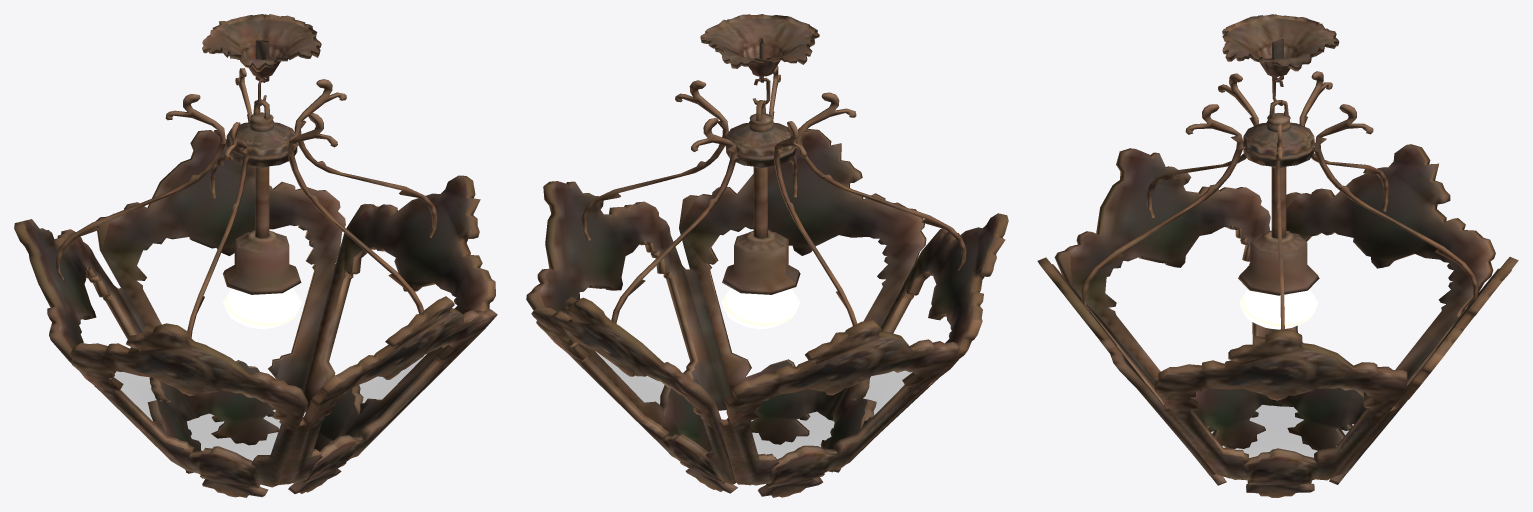
Rendered from ph-lantern-chandelier-01.glb.
The picture shows the model from 3 angles, left to right: view 1: azimuth 30°, elevation 25°; view 2: azimuth 150°, elevation 25°; view 3: azimuth 270°, elevation 25°; orthographic projection.
Visible parts, largest first — view 1: lantern_chandelier_01; view 2: lantern_chandelier_01; view 3: lantern_chandelier_01.
Boxes of the visible parts, left/top/right/bottom form: lantern_chandelier_01: left=14, top=14, right=497, bottom=497; lantern_chandelier_01: left=526, top=14, right=1008, bottom=497; lantern_chandelier_01: left=1037, top=14, right=1518, bottom=497.
Size of the model in its own units: 1 by 1 by 1.
3 materials, 2 textured.
